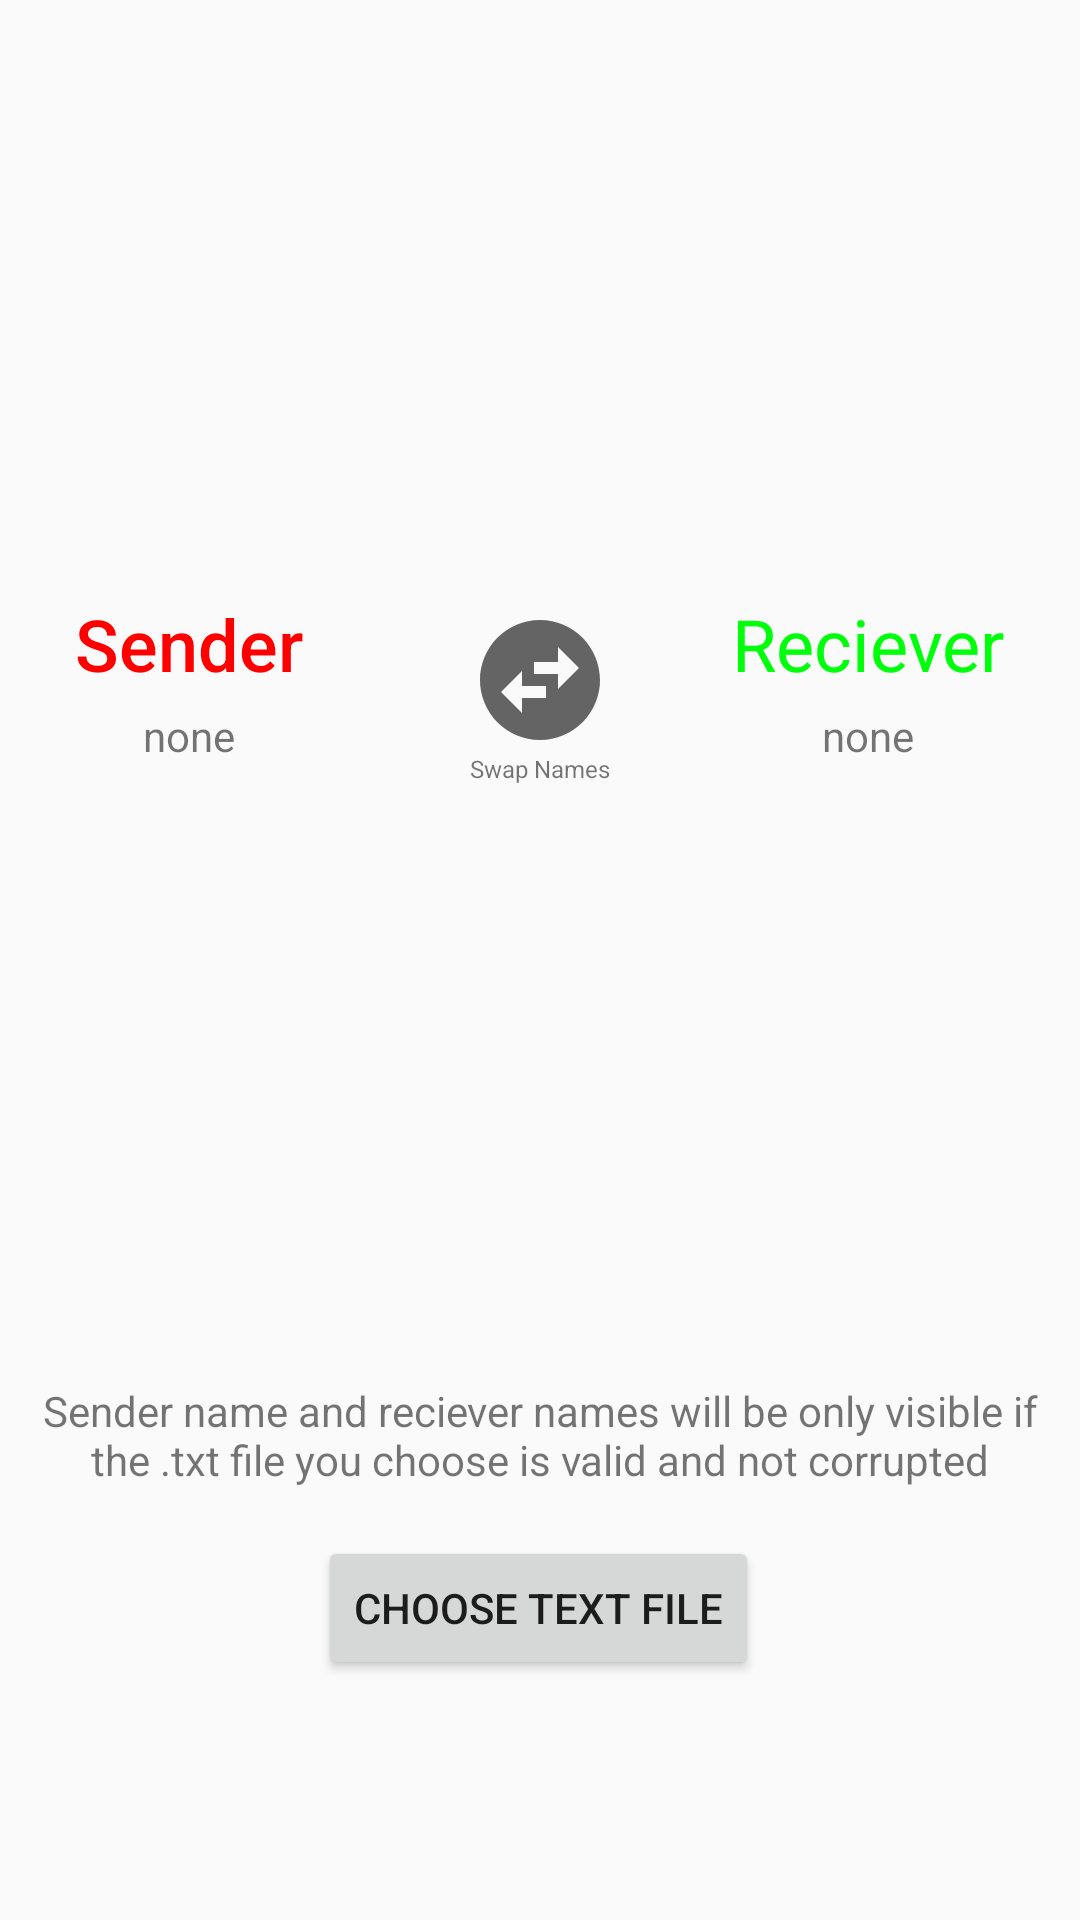

Screen size 1080×1920. Icon name, then its box in pixels as Rect(x1, y1, x2, y2):
swap horizontal circle: Rect(480, 620, 600, 740)
